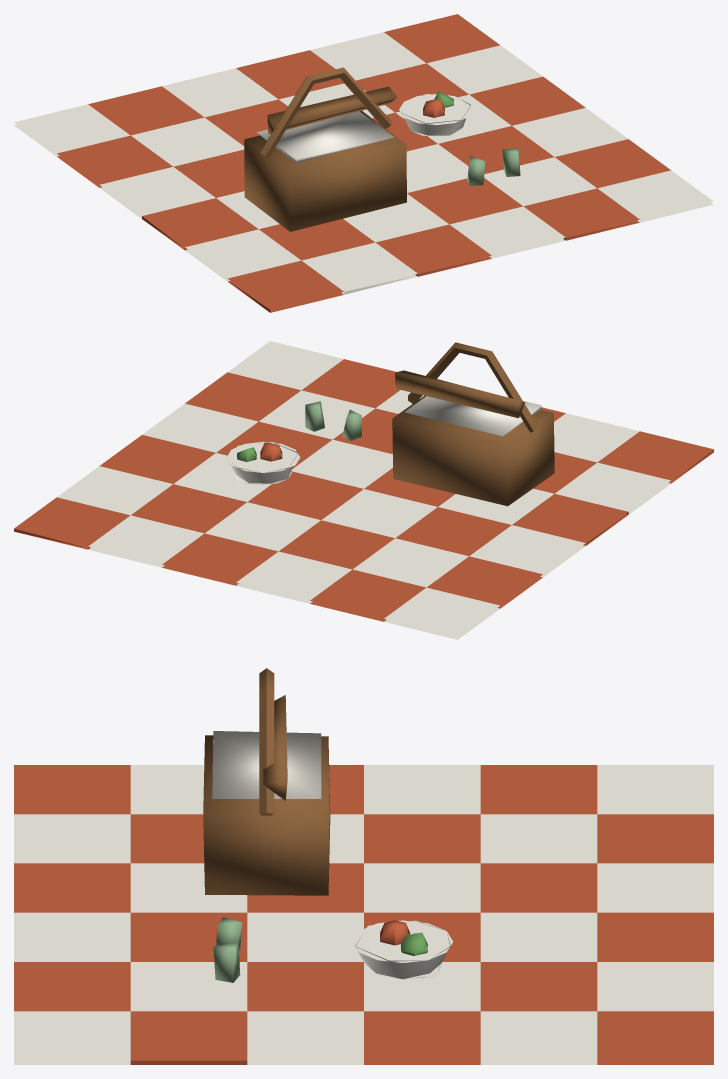
The model's file is lod_picnic_set.glb.
The picture shows the model from 3 angles, top to bottom: view 1: azimuth 30°, elevation 25°; view 2: azimuth 150°, elevation 25°; view 3: azimuth 270°, elevation 25°; orthographic projection. The views are drawn at different scales.
Visible parts, largest first — view 1: picnic_set; view 2: picnic_set; view 3: picnic_set.
Boxes of the visible parts, left/top/right/bottom form: picnic_set: left=14, top=14, right=713, bottom=312; picnic_set: left=14, top=341, right=713, bottom=639; picnic_set: left=14, top=668, right=713, bottom=1064.
Bounding box in the file's own units: 1.8 × 0.5322 × 1.8.
